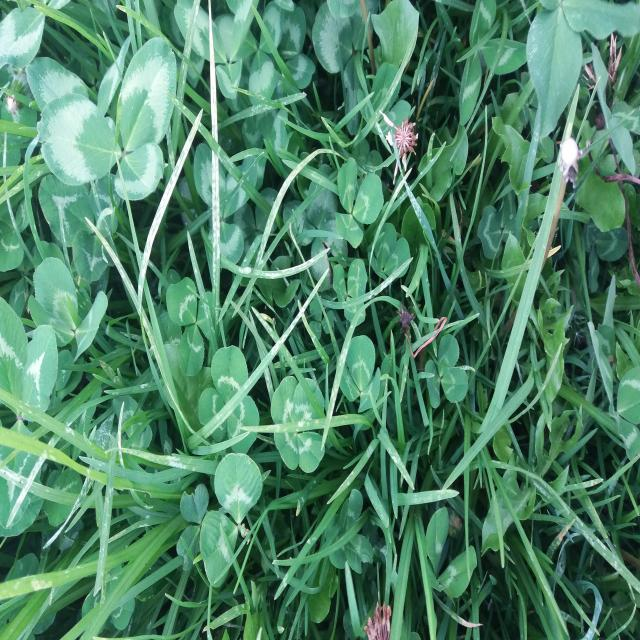Four Leaf Clover: (270, 376, 325, 473)
